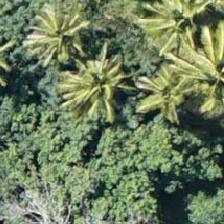coconut_tree: (46, 44, 136, 134), (123, 49, 213, 139), (18, 0, 108, 76), (133, 0, 223, 66), (167, 26, 223, 116)
